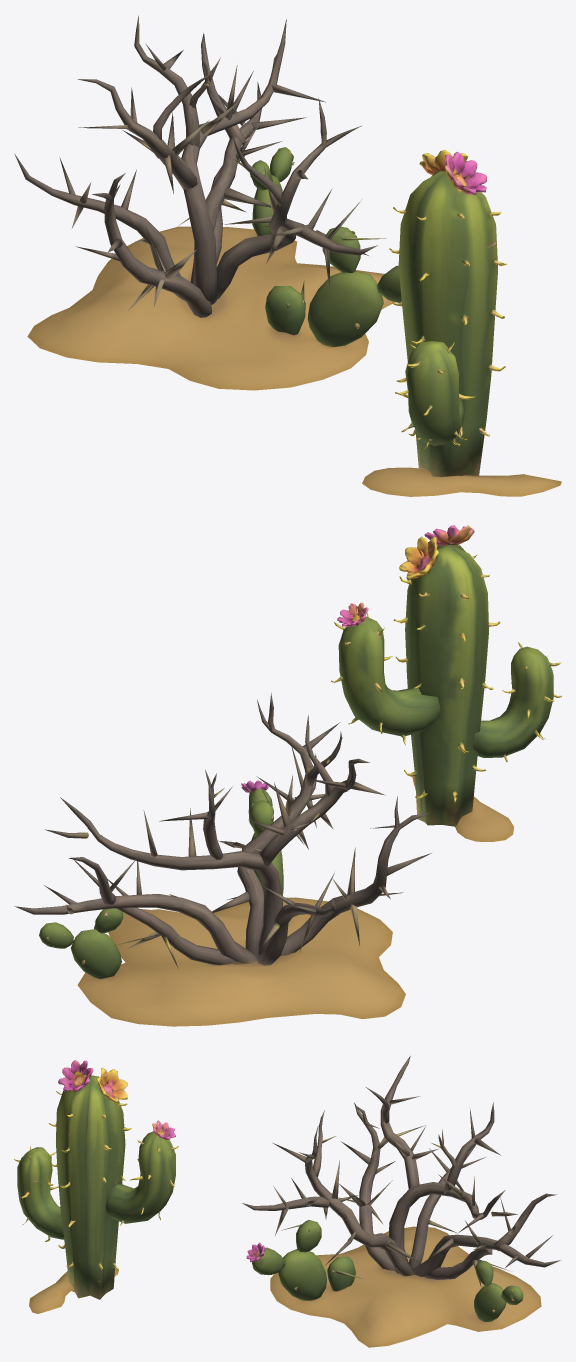
File: desert_suntotem_tripo.glb
The picture shows the model from 3 angles, top to bottom: view 1: azimuth 30°, elevation 25°; view 2: azimuth 150°, elevation 25°; view 3: azimuth 270°, elevation 25°; orthographic projection. The views are drawn at different scales.
Parts seen in each view (by area): view 1: tripo_node_262eaab1-7ef4-4ac3-81ec-04c2b8d6be23; view 2: tripo_node_262eaab1-7ef4-4ac3-81ec-04c2b8d6be23; view 3: tripo_node_262eaab1-7ef4-4ac3-81ec-04c2b8d6be23.
Boxes of the visible parts, x1,y1,x2,y2 form: tripo_node_262eaab1-7ef4-4ac3-81ec-04c2b8d6be23: [14, 15, 561, 496]; tripo_node_262eaab1-7ef4-4ac3-81ec-04c2b8d6be23: [14, 525, 561, 1026]; tripo_node_262eaab1-7ef4-4ac3-81ec-04c2b8d6be23: [14, 1056, 561, 1347].
Bounding box in the file's own units: 0.5215 × 0.459 × 0.998.
1 material, 1 textured.
